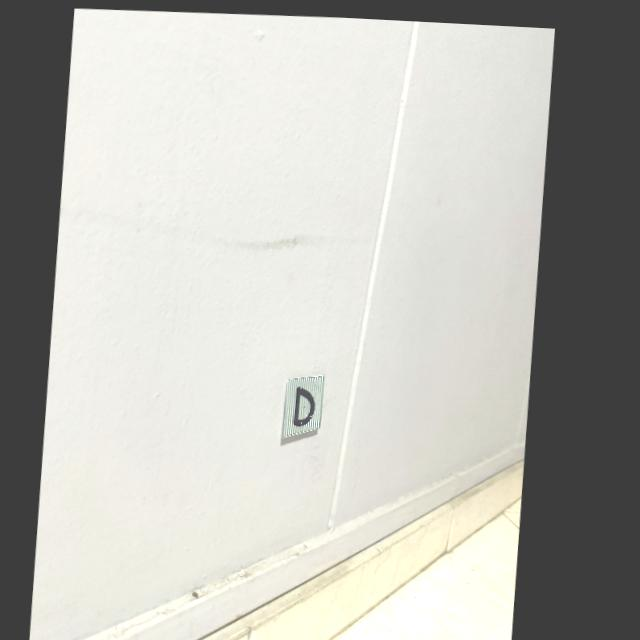D: (301, 382, 322, 422)
